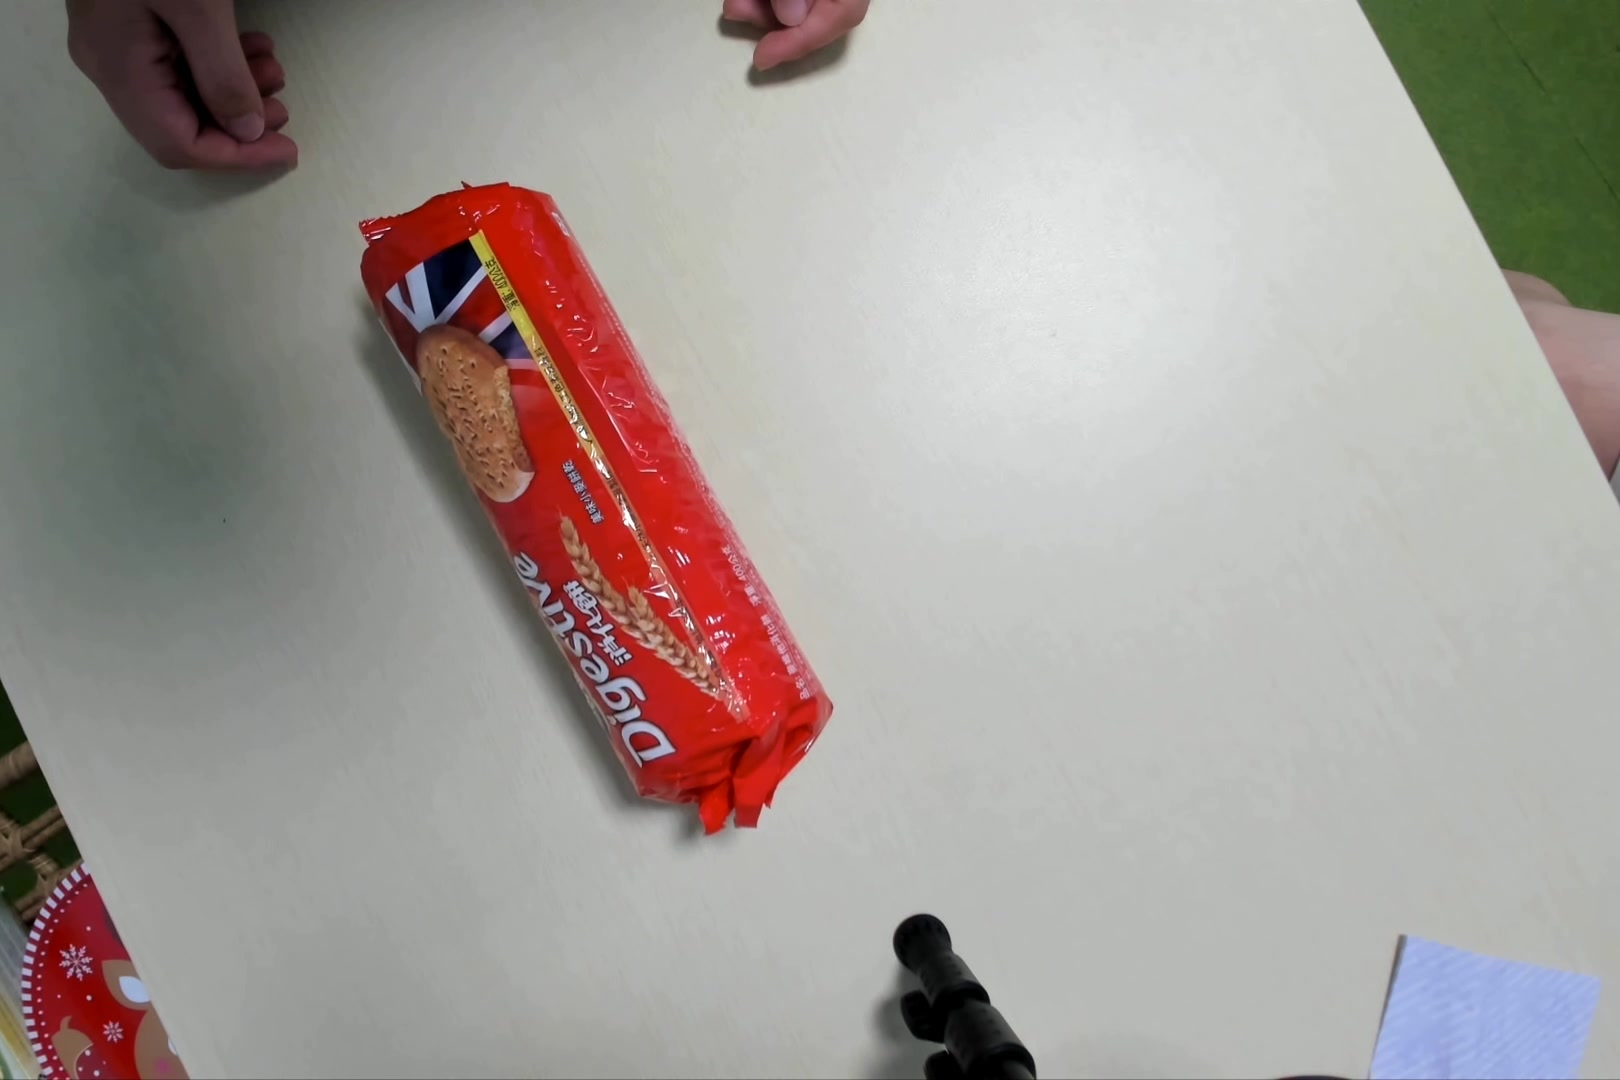BiscuitsCrackersCookies_400-499g_NonHalal_NonHealthy: (360, 175, 837, 837)
